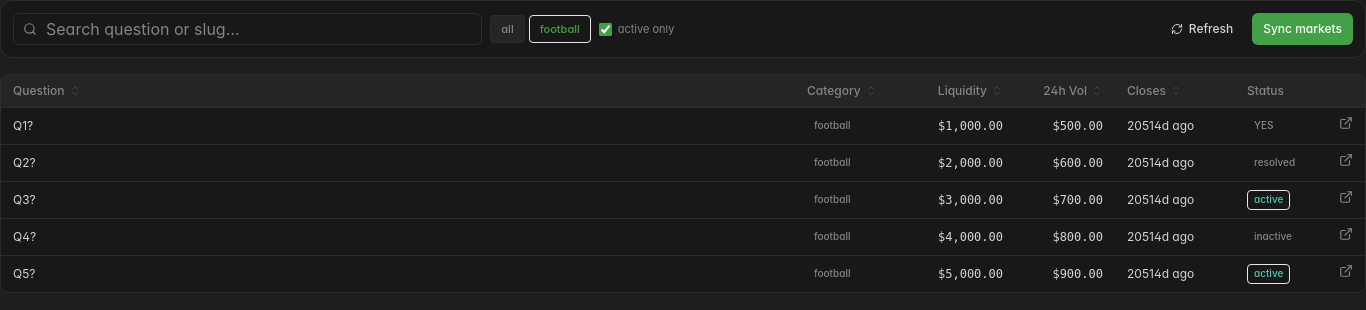
Test: Markets (extras round 2 — v0.72e + v0.119 football-only) › Empty state with search shows "No markets matching" copy
This screenshot has width=1366, height=310.
Expected: the link "Q1?" is shown, [13,118,33,132]
Type "xxxxxx-no-match" into the field with placeholder "Search question or slug…" at (248,29), box [13,13,482,45]
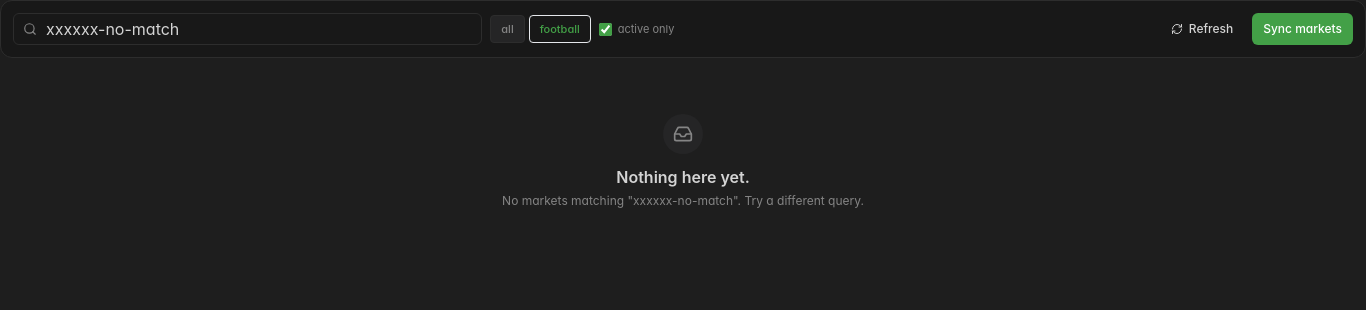
Expected: the text "No markets matching \"xxxxxx-no-match\". Try a different query." is shown, [502,192,864,210]
